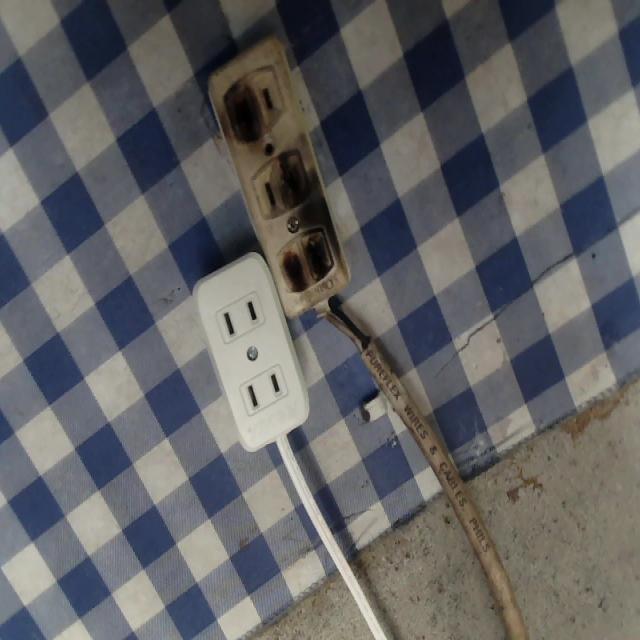-: (270, 229, 340, 299), (223, 74, 275, 150), (272, 148, 318, 213)
